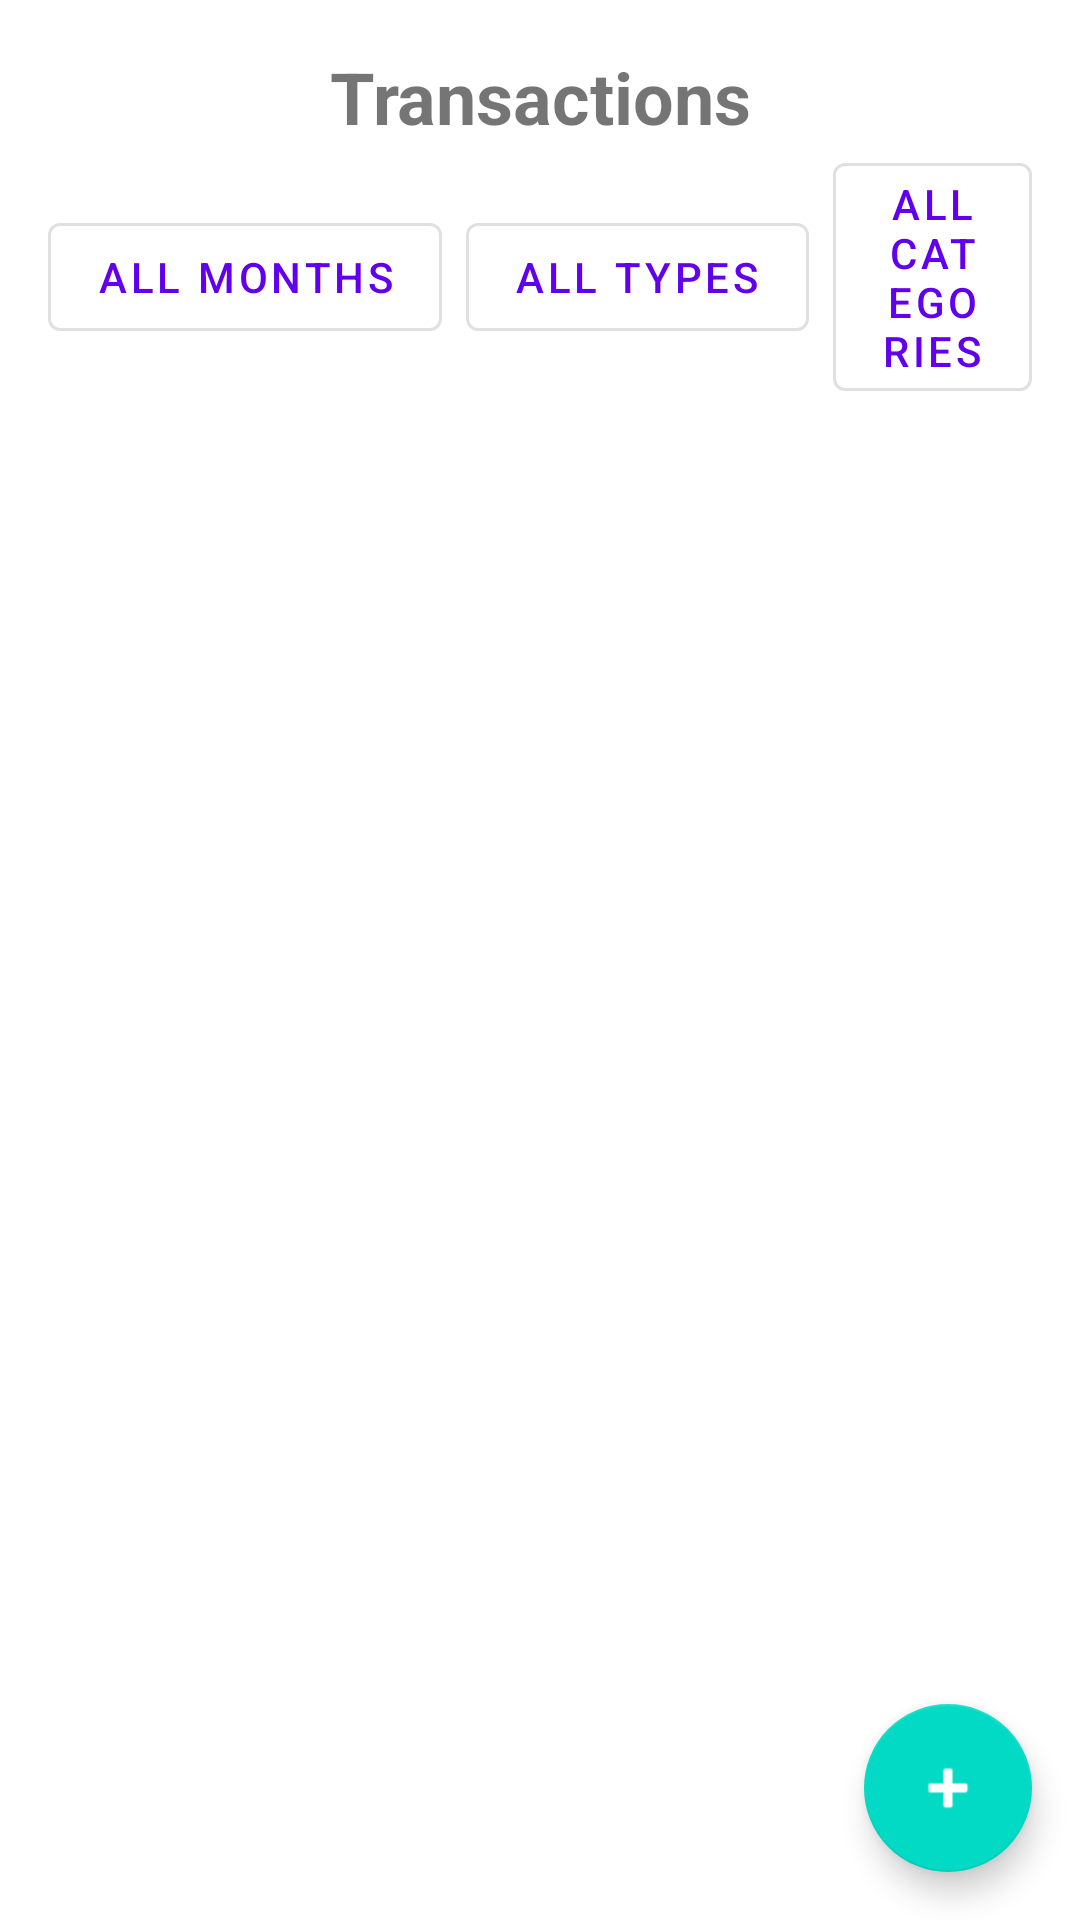

Where to tap for icons on this 1080 x 1920 app screen, as (x,y):
Add new transaction: (948,1788)
